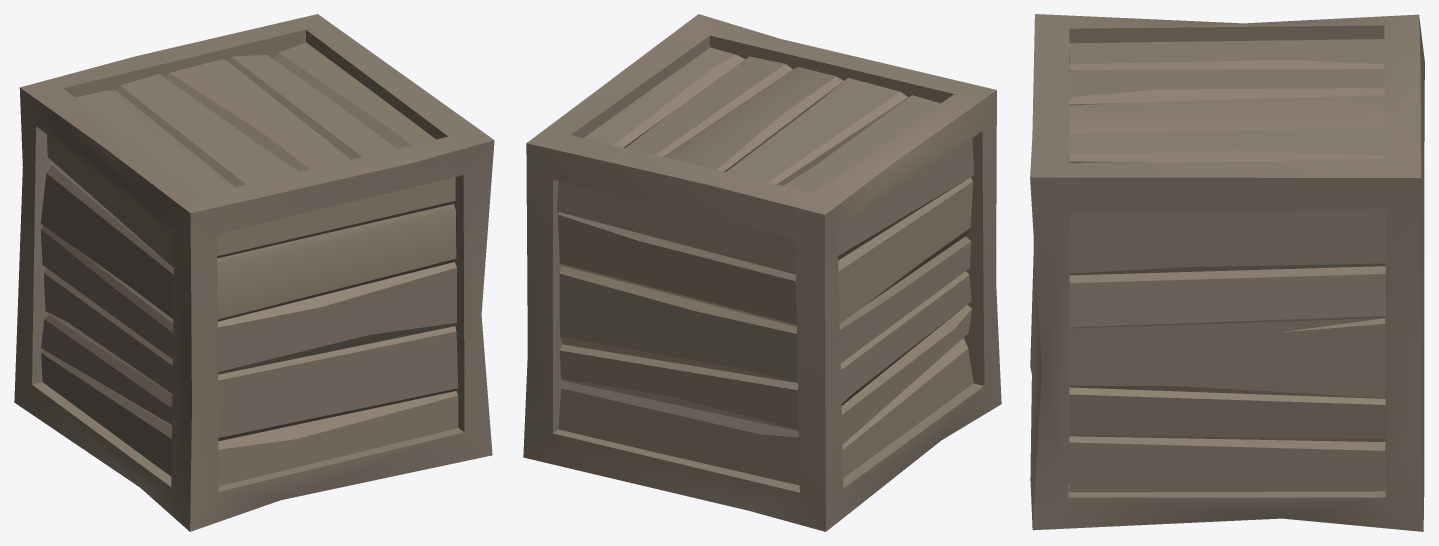
File: crate.obj
3 views of the same model, side by side, from view 1: azimuth 30°, elevation 25°; view 2: azimuth 150°, elevation 25°; view 3: azimuth 270°, elevation 25° (orthographic). The views are drawn at different scales.
Parts seen in each view (by area): view 1: Object_4; view 2: Object_4; view 3: Object_4.
Part boxes in pixels (x1,y1,x2,y2): Object_4: (14, 14, 494, 531); Object_4: (523, 14, 1001, 531); Object_4: (1030, 14, 1424, 531).
Size of the model in its own units: 1.01 by 1.02 by 1.01.
